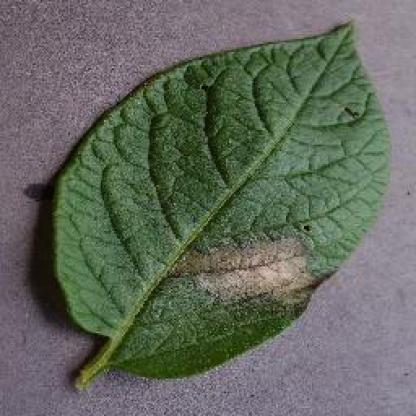bad leaf: (8, 13, 415, 379)
